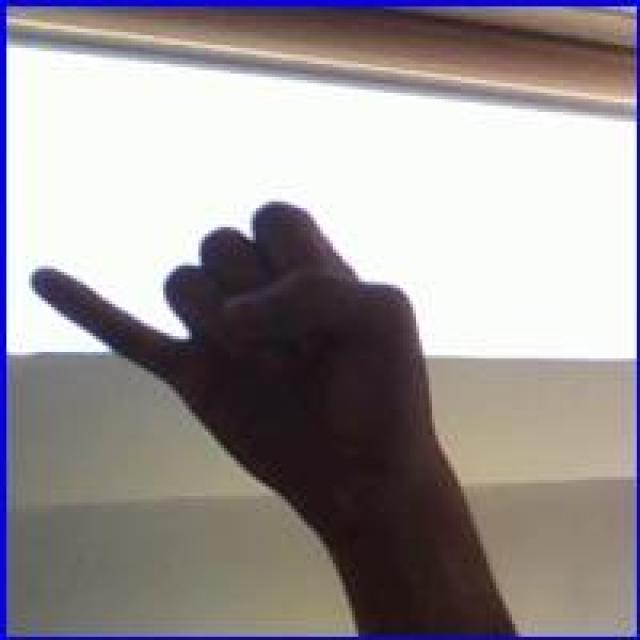J: (24, 166, 446, 518)
